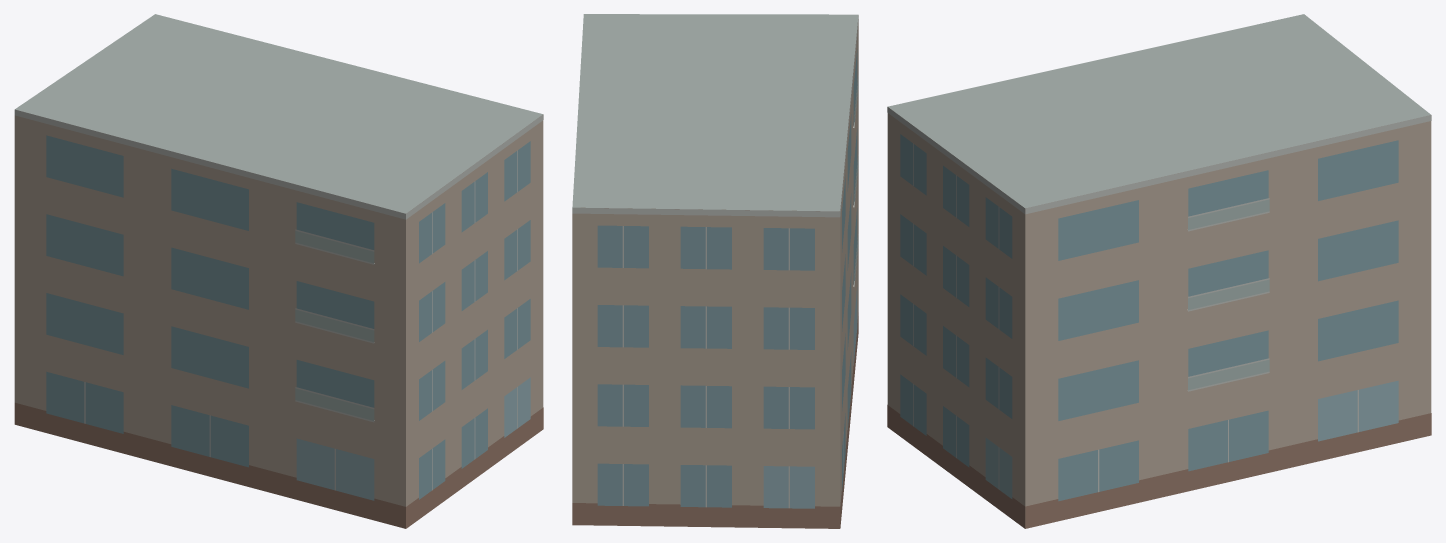
Rendered from survey-upis-32747667.glb.
3 renders of one model, left to right at view 1: azimuth 30°, elevation 25°; view 2: azimuth 150°, elevation 25°; view 3: azimuth 270°, elevation 25°, orthographic.
Parts seen in each view (by area): view 1: survey-upis-32747667.tmp; view 2: survey-upis-32747667.tmp; view 3: survey-upis-32747667.tmp.
Boxes of the visible parts, bbox=[...] form: survey-upis-32747667.tmp: bbox=[14, 14, 543, 528]; survey-upis-32747667.tmp: bbox=[572, 14, 858, 528]; survey-upis-32747667.tmp: bbox=[887, 14, 1431, 528].
Bounding box in the file's own units: 16.92 × 13 × 20.
